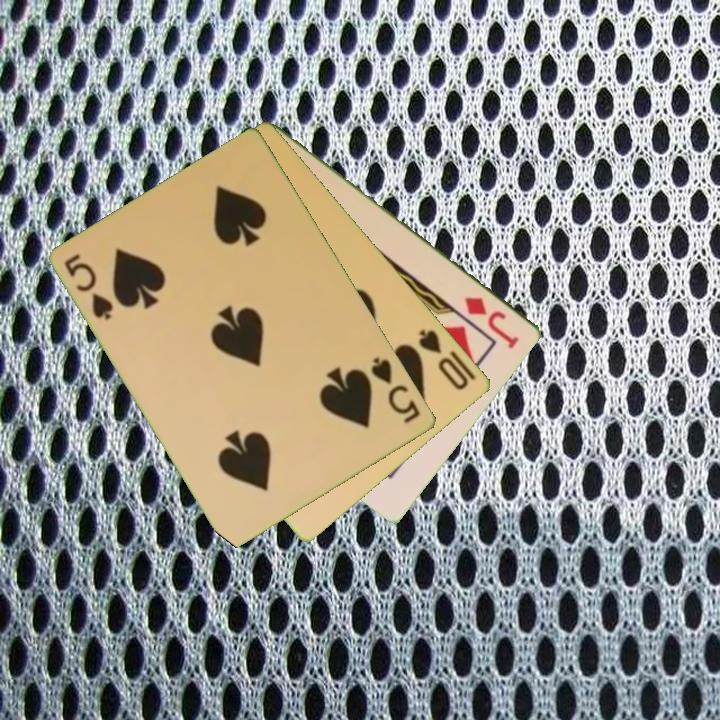10s: (415, 325, 472, 393)
5s: (61, 250, 117, 324), (368, 353, 424, 426)
Jd: (461, 293, 523, 352)
